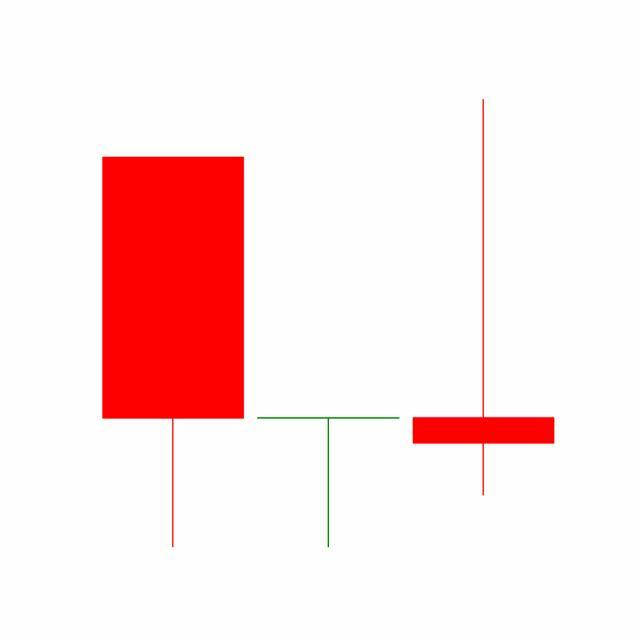Dragonfly Doji: (250, 416, 407, 550)
